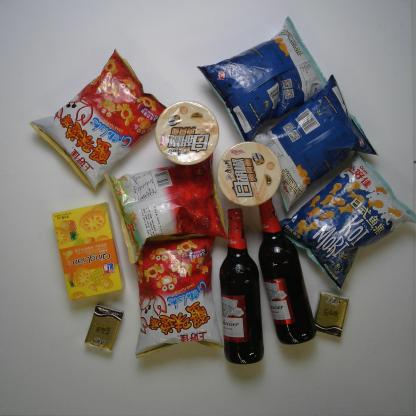Alcohol: (255, 197, 318, 344), (216, 202, 271, 366)
Dessert: (52, 200, 128, 302)
Instant Noodles: (214, 140, 286, 206), (156, 98, 218, 164)
Puffed Food: (275, 150, 416, 293), (32, 46, 166, 194), (193, 12, 334, 146), (250, 74, 380, 209), (101, 151, 229, 267), (124, 228, 224, 361)
Tissue: (82, 303, 126, 354), (311, 290, 350, 339)
